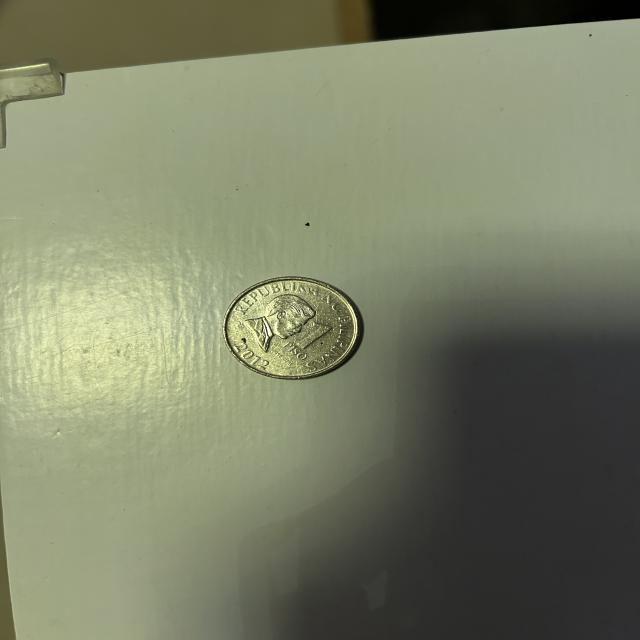1_Old_Front: (284, 314, 332, 356)
